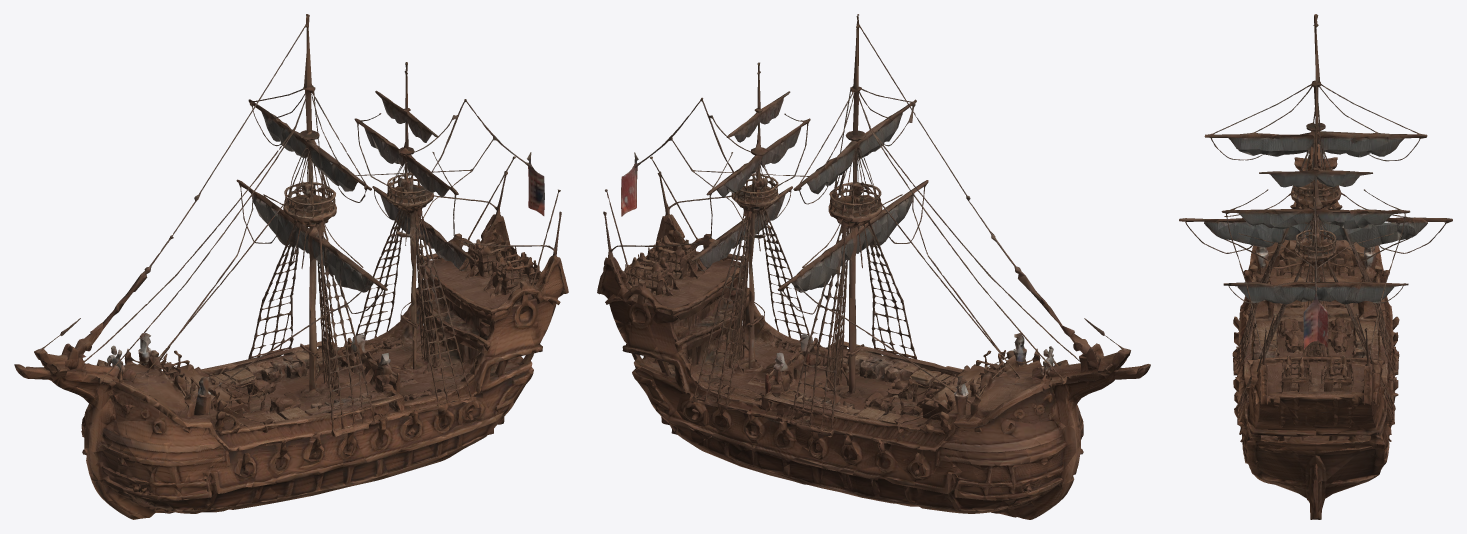
The model's file is galleon__timber-galleon.glb.
3 views of the same model, side by side, from view 1: azimuth 30°, elevation 25°; view 2: azimuth 150°, elevation 25°; view 3: azimuth 270°, elevation 25° (orthographic). The views are drawn at different scales.
Size of the model in its own units: 1.9 by 1.61 by 0.9402.
1 material, 1 textured.
